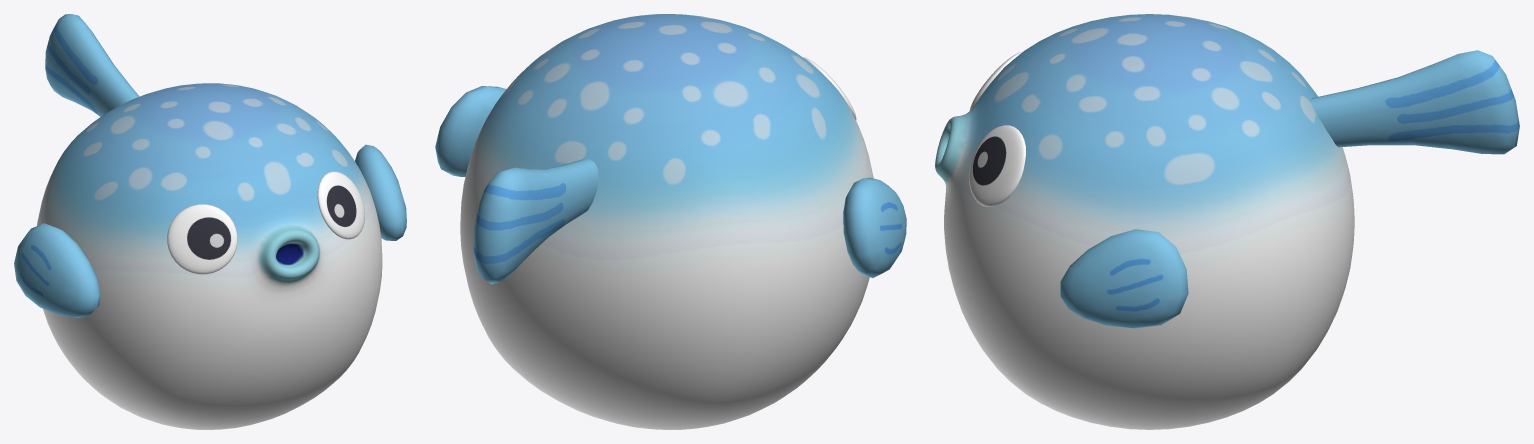
File: fugu.glb
The picture shows the model from 3 angles, left to right: view 1: azimuth 30°, elevation 25°; view 2: azimuth 150°, elevation 25°; view 3: azimuth 270°, elevation 25°; orthographic projection. The views are drawn at different scales.
Visible parts, largest first — view 1: Cube, 立方体, 球, 立方体.002; view 2: Cube, 立方体.002, 立方体; view 3: Cube, 立方体.002, 立方体, 球.
Part boxes in pixels (<box>): Cube: <box>37,83,382,429</box>; 立方体: <box>14,144,406,317</box>; 球: <box>167,171,364,274</box>; 立方体.002: <box>45,14,139,116</box>; Cube: <box>460,14,873,429</box>; 立方体.002: <box>473,159,598,284</box>; 立方体: <box>435,86,906,277</box>; Cube: <box>935,14,1354,429</box>; 立方体.002: <box>1310,50,1519,154</box>; 立方体: <box>1059,229,1188,328</box>; 球: <box>969,51,1025,206</box>.
Bounding box in the file's own units: 2 × 1.6 × 2.28.
Materials: 2 (2 with a texture image).
